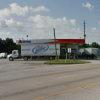Tree: (1, 33, 14, 52)
